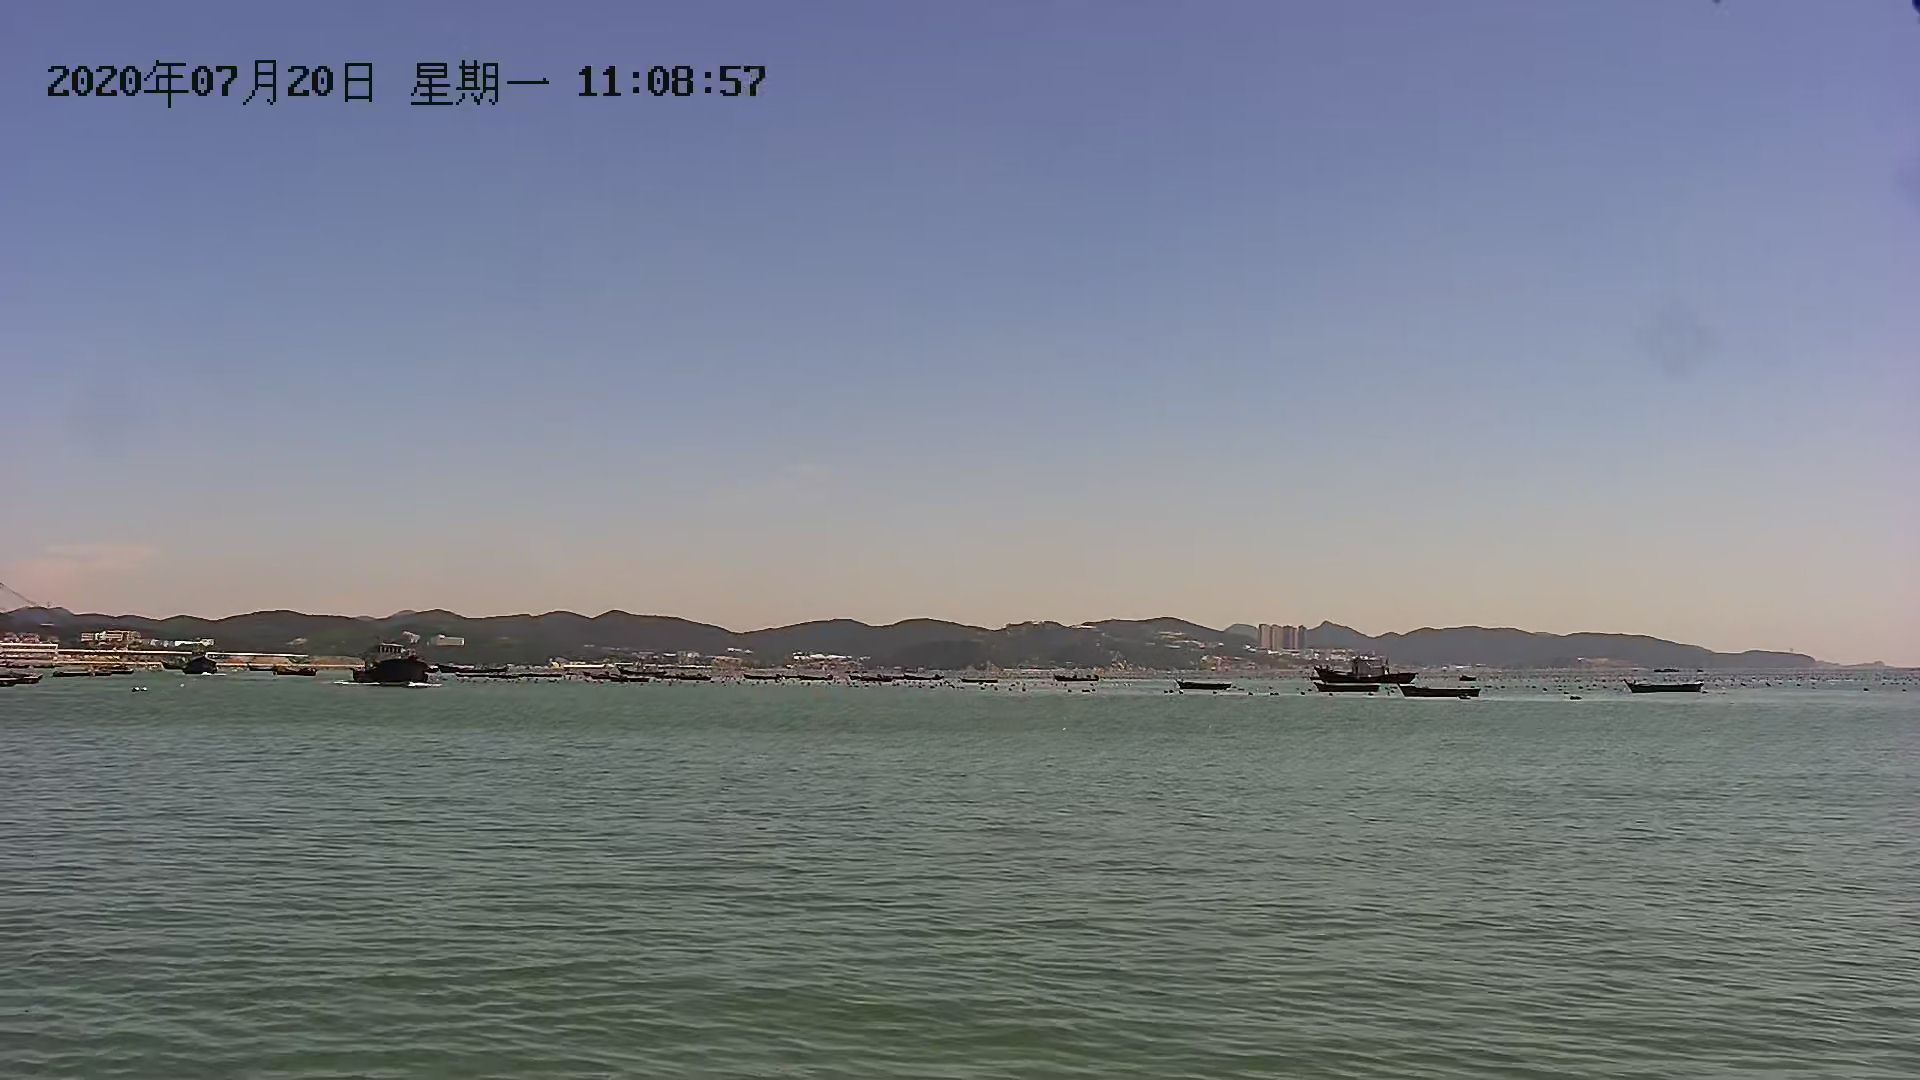boat: (1621, 673, 1712, 698), (1400, 683, 1482, 704), (1171, 673, 1236, 698)
ship: (348, 636, 435, 688), (1309, 650, 1416, 688)
